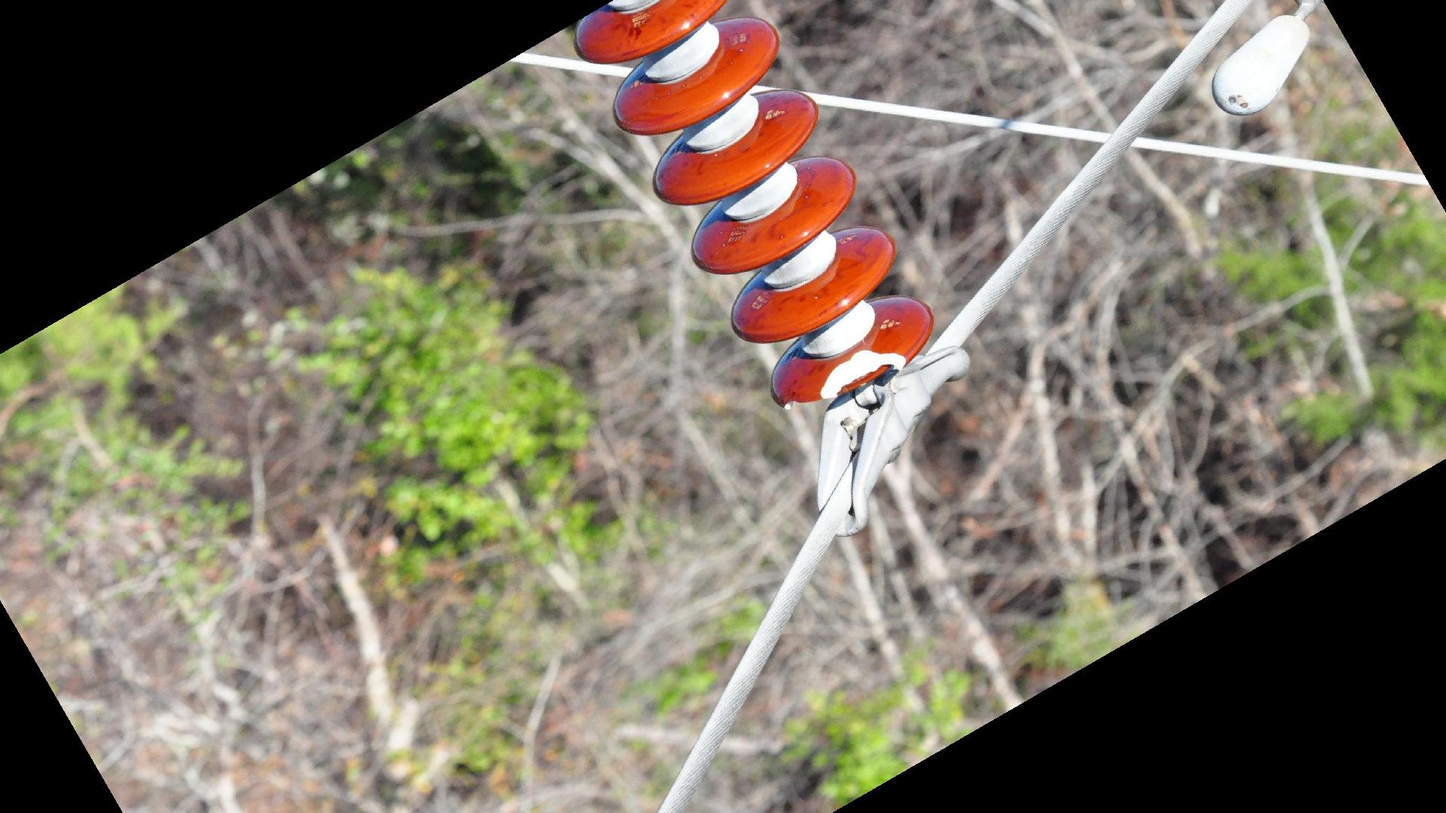insulator: (568, 1, 941, 419)
insulator_breakage: (779, 346, 911, 414)
